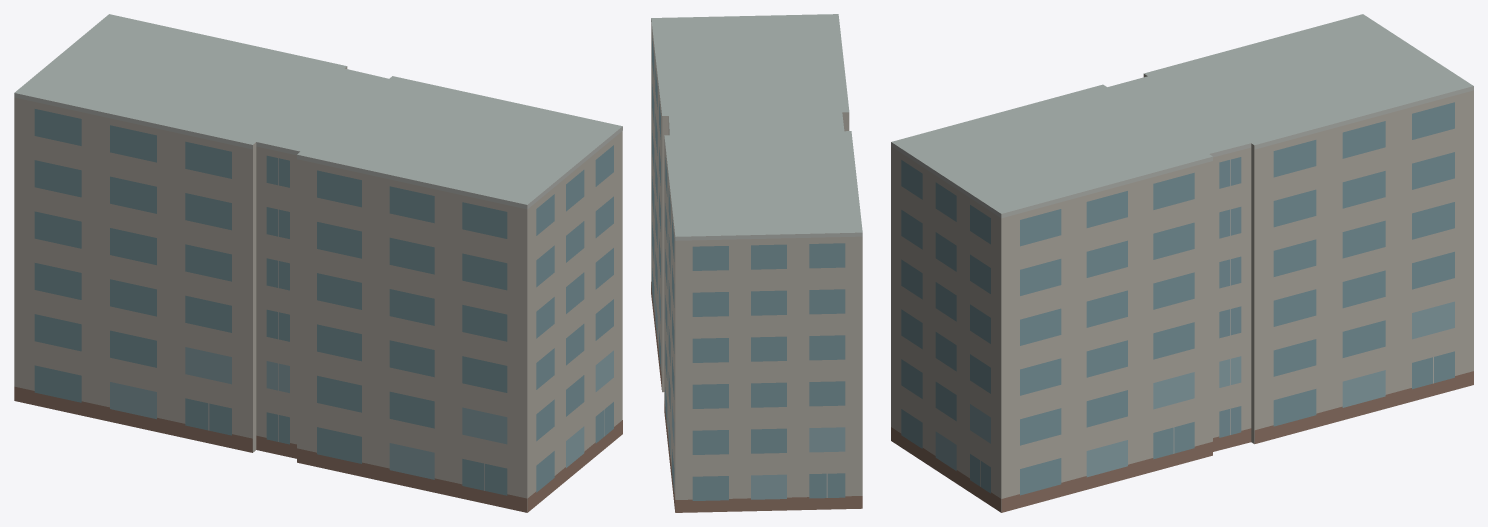
The model's file is survey-upis-32973462.glb.
3 renders of one model, left to right at view 1: azimuth 30°, elevation 25°; view 2: azimuth 150°, elevation 25°; view 3: azimuth 270°, elevation 25°, orthographic. The views are drawn at different scales.
Visible parts, largest first — view 1: survey-upis-32973462.tmp; view 2: survey-upis-32973462.tmp; view 3: survey-upis-32973462.tmp.
Part boxes in pixels (<box>): survey-upis-32973462.tmp: <box>14,14,622,512</box>; survey-upis-32973462.tmp: <box>651,14,862,512</box>; survey-upis-32973462.tmp: <box>891,14,1473,512</box>.
Bounding box in the file's own units: 23.97 × 16.7 × 29.51.
